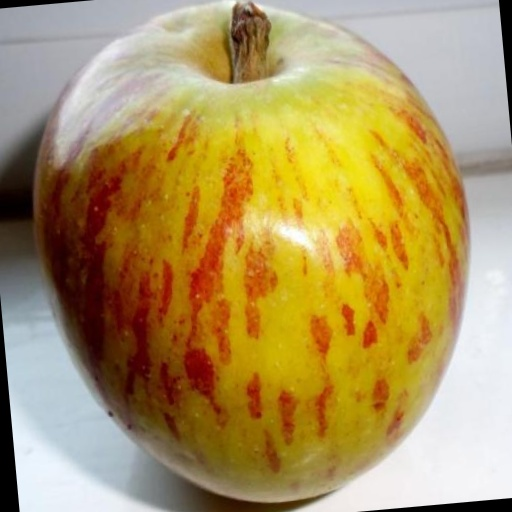fruit: (35, 1, 468, 501)
